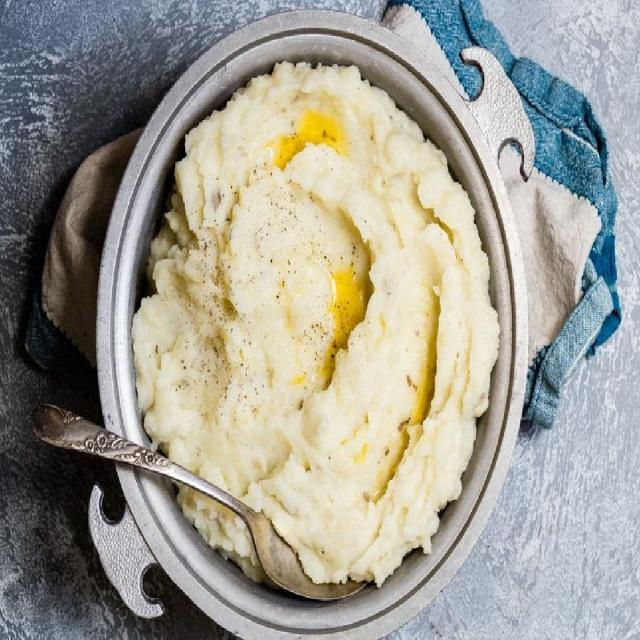papa: (113, 46, 502, 616)
